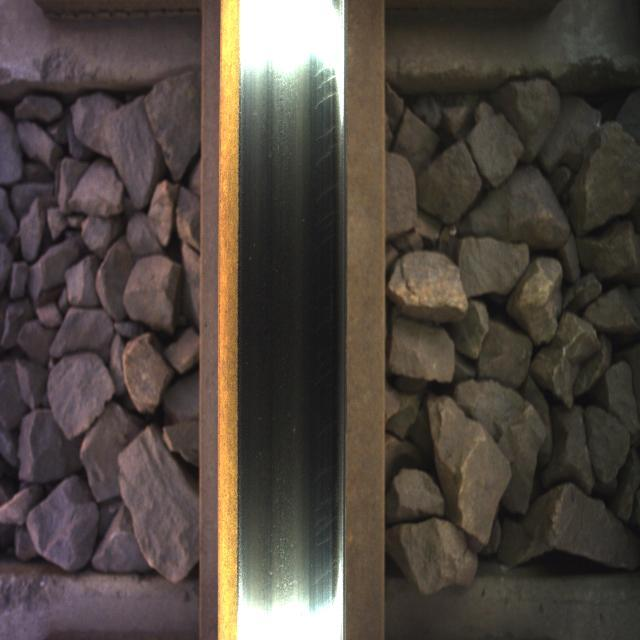break: (244, 30, 348, 560)
